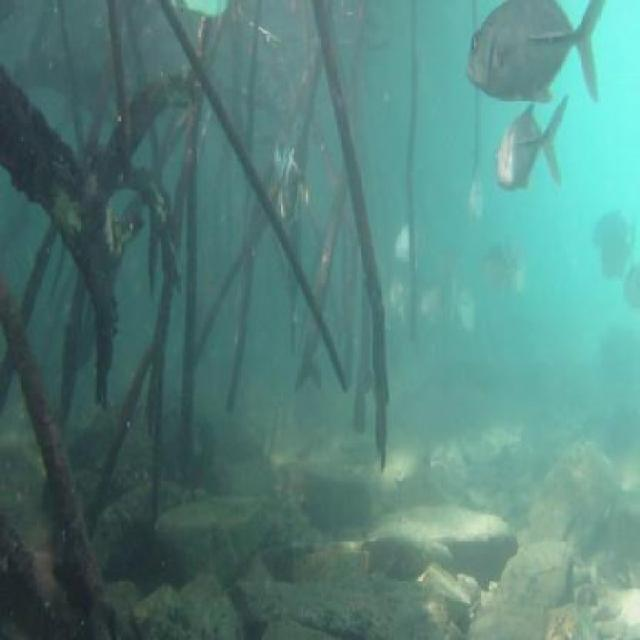Caranx_sexfasciatus_juvenile: (467, 1, 607, 110), (491, 98, 566, 199), (279, 149, 318, 248), (592, 200, 636, 263), (477, 241, 509, 308), (447, 271, 475, 346), (267, 127, 293, 207), (382, 275, 416, 334), (462, 170, 490, 233), (393, 214, 424, 268), (615, 256, 640, 318), (504, 255, 531, 310), (599, 229, 626, 283), (414, 279, 441, 333), (437, 241, 460, 301)
